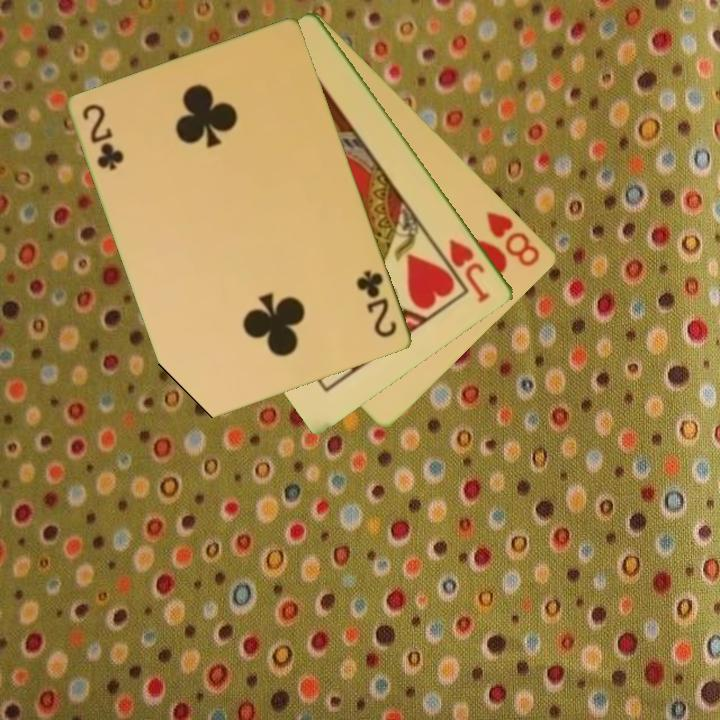2c: (353, 267, 401, 341), (79, 100, 126, 174)
8h: (482, 207, 544, 270)
Jh: (445, 235, 494, 306)
